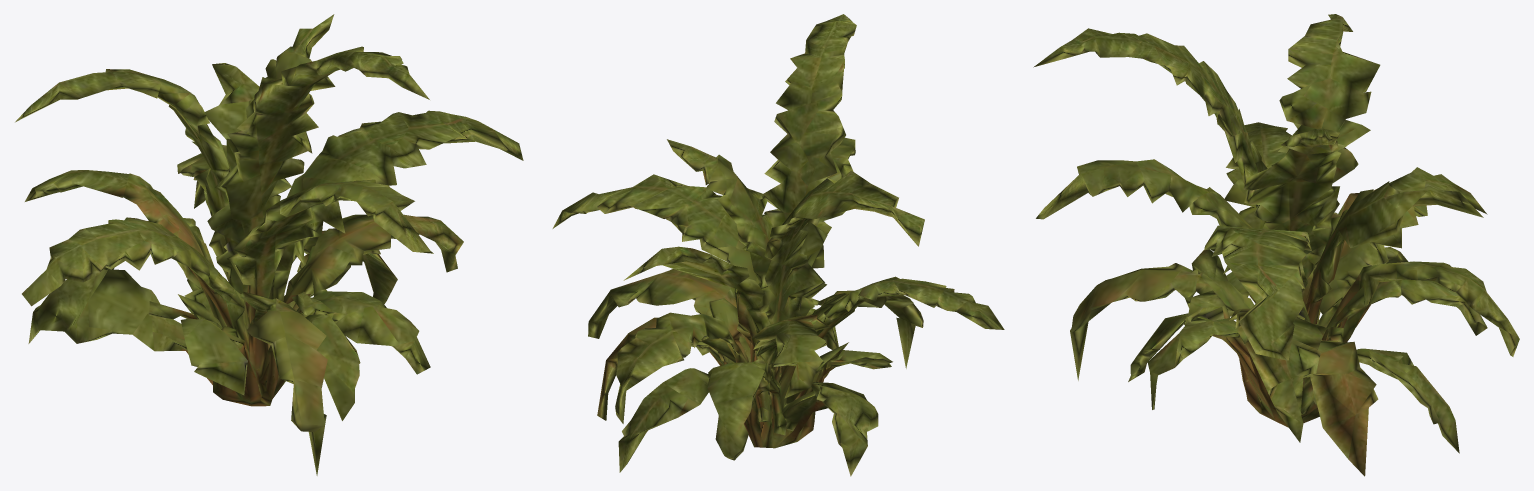
Rendered from helechos_alto.glb.
3 renders of one model, left to right at view 1: azimuth 30°, elevation 25°; view 2: azimuth 150°, elevation 25°; view 3: azimuth 270°, elevation 25°, orthographic. The views are drawn at different scales.
Visible parts, largest first — view 1: alto; view 2: alto; view 3: alto.
Boxes of the visible parts, x1,y1,x2,y2 form: alto: [15, 14, 523, 475]; alto: [552, 14, 1004, 476]; alto: [1033, 14, 1519, 476].
Size of the model in its own units: 0.8944 by 0.7001 by 0.7755.
1 material, 1 textured.
